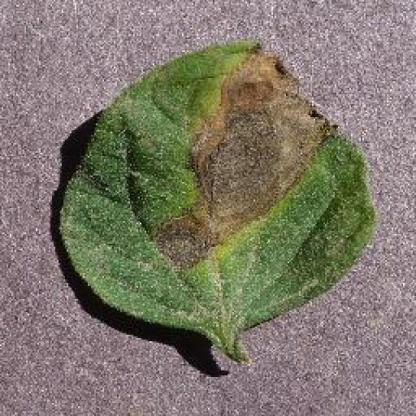Tomato_Blight: (58, 40, 372, 332)
